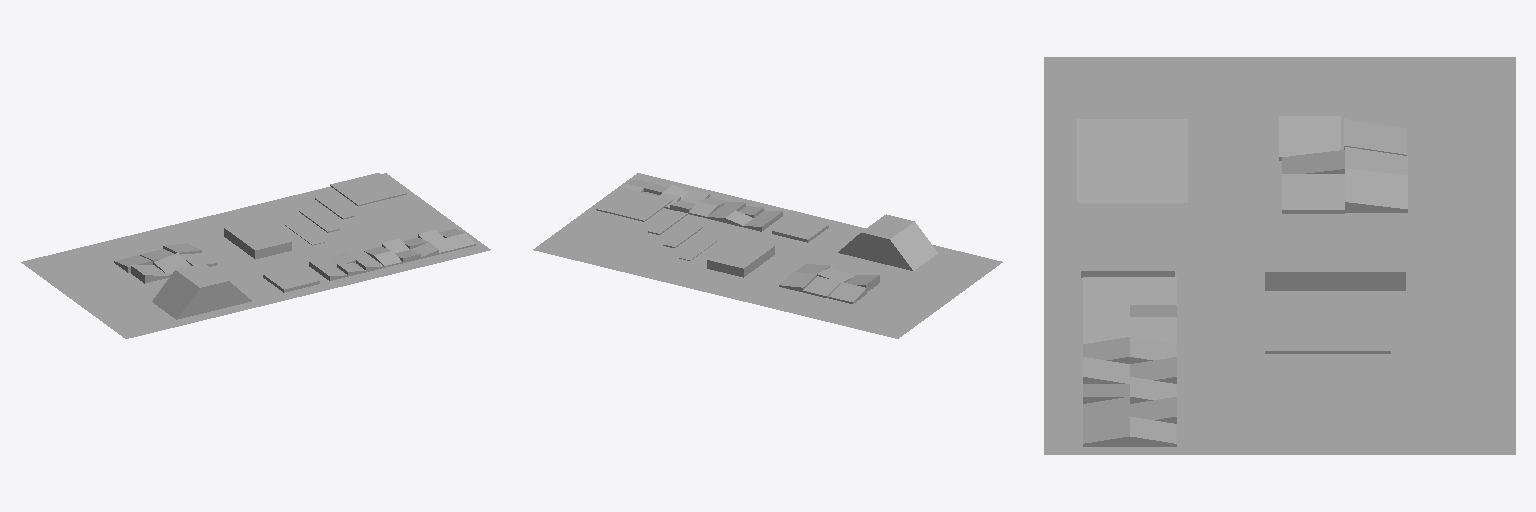
The robot description file, URDF, robot "tcsdemo":
<?xml version='1.0' encoding='utf-8'?>
<robot name="tcsdemo">
  <link name="base_link">
    <inertial>
      <origin xyz="0.0 0.0 0.0" rpy="0 0 0" />
      <mass value="1" />
      <inertia ixx="0.001" ixy="0" ixz="0" iyy="0.001" iyz="0" izz="0.001" />
    </inertial>
    <visual>
      <origin xyz="0 0 0" rpy="0 0 0" />
      <geometry>
        <mesh filename="package://tcsdemo/meshes/tcsdemo.stl" scale="1 1 1" />
      </geometry>
      <material name="grey">
        <color rgba="0.7 0.7 0.7 1.0" />
      </material>
    </visual>
    <collision>
      <origin xyz="0 0 0" rpy="0 0 0" />
      <geometry>
        <mesh filename="package://tcsdemo/meshes/tcsdemo.stl" scale="1 1 1" />
      </geometry>
    </collision>
  </link>
</robot>

--- What the picture shows (computed from the rendered views, not written in the file) ---
The picture shows the robot from 3 angles, left to right: view 1: azimuth 30°, elevation 25°; view 2: azimuth 150°, elevation 25°; view 3: azimuth 270°, elevation 25°; orthographic projection.
Robot: tcsdemo — 1 links, 0 joints (none); root link base_link; default pose: every joint at zero.
Visible links, largest first — view 1: base_link; view 2: base_link; view 3: base_link.
Boxes of the visible links, <box> form: base_link: <box>21,173,490,338</box>; base_link: <box>533,173,1002,338</box>; base_link: <box>1044,57,1515,454</box>.
Size in the robot's own frame: 6 by 3 by 0.47 metres.
Meshes: 1 distinct files referenced, 1 mesh visuals loaded (1 binary STL).